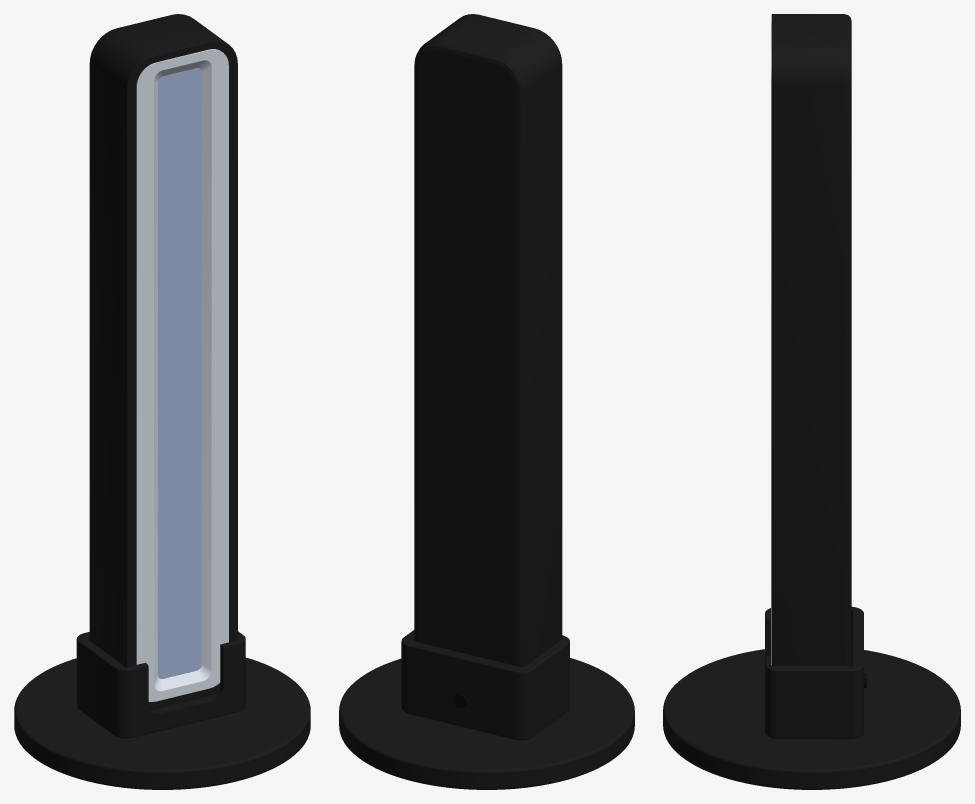
3 renders of one model, left to right at view 1: azimuth 30°, elevation 25°; view 2: azimuth 150°, elevation 25°; view 3: azimuth 270°, elevation 25°, orthographic.
Parts seen in each view (by area): view 1: Sloped opal diffuser surround_export, Inset luminous lens_export, Circular weighted base_export, Rear enclosure_export, Housing front bezel_export, Mounting socket_export; view 2: Rear enclosure_export, Circular weighted base_export, Mounting socket_export, Housing front bezel_export; view 3: Rear enclosure_export, Circular weighted base_export, Housing front bezel_export, Mounting socket_export, Sloped opal diffuser surround_export.
Boxes of the visible parts, left/top/right/bottom form: Sloped opal diffuser surround_export: left=136, top=49, right=228, bottom=701; Inset luminous lens_export: left=158, top=68, right=201, bottom=678; Circular weighted base_export: left=14, top=657, right=310, bottom=789; Rear enclosure_export: left=89, top=14, right=220, bottom=661; Housing front bezel_export: left=118, top=34, right=237, bottom=709; Mounting socket_export: left=76, top=631, right=245, bottom=738; Rear enclosure_export: left=414, top=19, right=555, bottom=667; Circular weighted base_export: left=339, top=658, right=634, bottom=789; Mounting socket_export: left=401, top=630, right=569, bottom=740; Housing front bezel_export: left=452, top=14, right=562, bottom=644; Rear enclosure_export: left=784, top=14, right=851, bottom=665; Circular weighted base_export: left=663, top=649, right=960, bottom=789; Housing front bezel_export: left=771, top=14, right=788, bottom=665; Mounting socket_export: left=765, top=606, right=863, bottom=739; Sloped opal diffuser surround_export: left=771, top=23, right=771, bottom=664.
Bounding box in the file's own units: 0.12 × 0.31 × 0.12.
